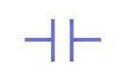Capacitor: (33, 16, 91, 63)
